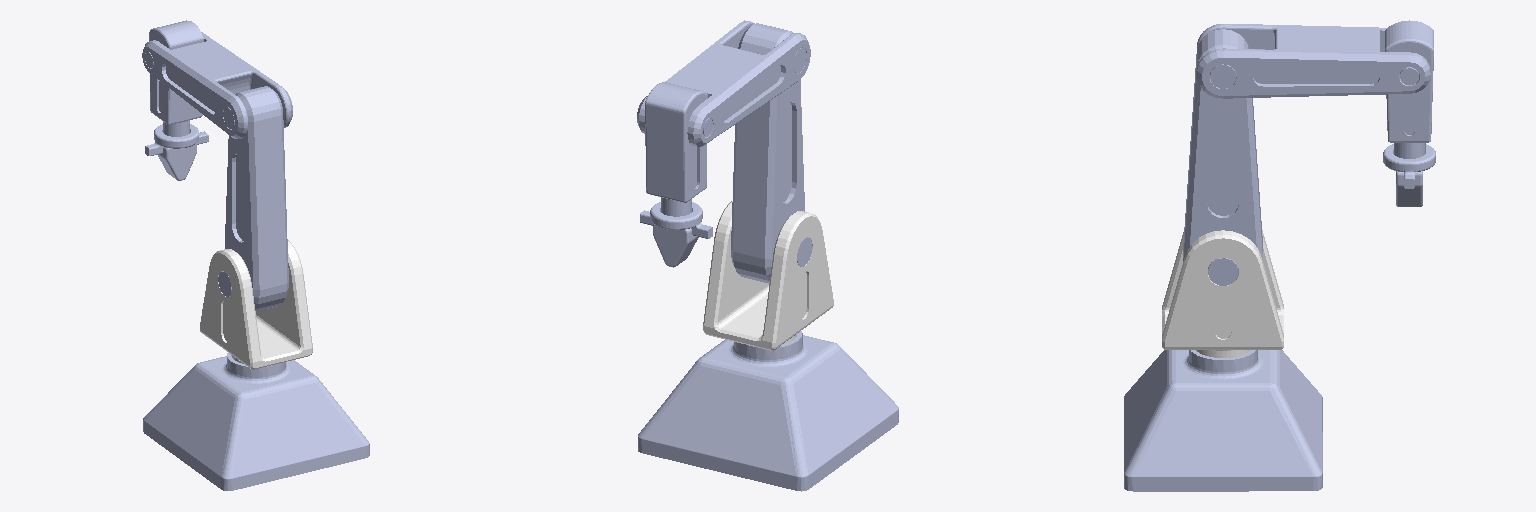
The robot description file, URDF, robot "robot_arm_urdf":
<?xml version="1.0" encoding="utf-8"?>
<!-- This URDF was automatically created by SolidWorks to URDF Exporter! Originally created by [author] ([email redacted]) 
     Commit Version: 1.5.1-0-g916b5db  Build Version: 1.5.7152.31018
     For more information, please see http://wiki.ros.org/sw_urdf_exporter -->
<robot
  name="robot_arm_urdf">

  <link name="world"/>

  <joint name="base_joint" type="fixed">
	<parent link="world"/>
	<child link="base_link"/>
	<origin rpy="0 0 3.142" xyz="0.0 0.0 0.0"/>
  </joint>

  <link
    name="base_link">
    <inertial>
      <origin
        xyz="4.1633E-17 0 0.073876"
        rpy="0 0 0" />
      <mass
        value="17.147" />
      <inertia
        ixx="0.192"
        ixy="-4.9423E-10"
        ixz="1.2752E-17"
        iyy="0.192"
        iyz="2.6417E-18"
        izz="0.29544" />
    </inertial>
    <visual>
      <origin
        xyz="0 0 0"
        rpy="0 0 0" />
      <geometry>
        <mesh
          filename="package://robot_arm_urdf/meshes/base_link.STL" />
      </geometry>
      <material
        name="">
        <color
          rgba="0.79216 0.81961 0.93333 1" />
      </material>
    </visual>
    <collision>
      <origin
        xyz="0 0 0"
        rpy="0 0 0" />
      <geometry>
        <mesh
          filename="package://robot_arm_urdf/meshes/base_link.STL" />
      </geometry>
    </collision>
  </link>
  <link
    name="link_1">
    <inertial>
      <origin
        xyz="-2.5757E-14 0.11047 -7.8988E-11"
        rpy="0 0 0" />
      <mass
        value="3.0905" />
      <inertia
        ixx="0.026302"
        ixy="-2.5267E-15"
        ixz="-1.4177E-12"
        iyy="0.019632"
        iyz="-7.4535E-12"
        izz="0.025388" />
    </inertial>
    <visual>
      <origin
        xyz="0 0 0"
        rpy="0 0 0" />
      <geometry>
        <mesh
          filename="package://robot_arm_urdf/meshes/link_1.STL" />
      </geometry>
      <material
        name="">
        <color
          rgba="1 1 1 1" />
      </material>
    </visual>
    <collision>
      <origin
        xyz="0 0 0"
        rpy="0 0 0" />
      <geometry>
        <mesh
          filename="package://robot_arm_urdf/meshes/link_1.STL" />
      </geometry>
    </collision>
  </link>
  <joint
    name="joint_1"
    type="revolute">
    <origin
      xyz="0 0 0.2"
      rpy="1.5708 0 1.5708" />
    <parent
      link="base_link" />
    <child
      link="link_1" />
    <axis
      xyz="0 1 0" />
    <limit
      lower="0"
      upper="3.142"
      effort="300"
      velocity="3" />
  </joint>
  <link
    name="link_2">
    <inertial>
      <origin
        xyz="-1.1102E-16 0.16752 -2.498E-16"
        rpy="0 0 0" />
      <mass
        value="5.5867" />
      <inertia
        ixx="0.12632"
        ixy="8.4877E-17"
        ixz="7.8685E-19"
        iyy="0.011401"
        iyz="1.4432E-16"
        izz="0.12911" />
    </inertial>
    <visual>
      <origin
        xyz="0 0 0"
        rpy="0 0 0" />
      <geometry>
        <mesh
          filename="package://robot_arm_urdf/meshes/link_2.STL" />
      </geometry>
      <material
        name="">
        <color
          rgba="0.79216 0.81961 0.93333 1" />
      </material>
    </visual>
    <collision>
      <origin
        xyz="0 0 0"
        rpy="0 0 0" />
      <geometry>
        <mesh
          filename="package://robot_arm_urdf/meshes/link_2.STL" />
      </geometry>
    </collision>
  </link>
  <joint
    name="joint_2"
    type="revolute">
    <origin
      xyz="0 0.205 0"
      rpy="0 0 0" />
    <parent
      link="link_1" />
    <child
      link="link_2" />
    <axis
      xyz="0 0 1" />
    <limit
      lower="-1.57"
      upper="1.57"
      effort="200"
      velocity="3" />
  </joint>
  <link
    name="link_3">
    <inertial>
      <origin
        xyz="-0.17893 0 -1.249E-16"
        rpy="0 0 0" />
      <mass
        value="2.8262" />
      <inertia
        ixx="0.0074041"
        ixy="-1.7927E-17"
        ixz="4.2672E-17"
        iyy="0.028552"
        iyz="-3.4736E-10"
        izz="0.025128" />
    </inertial>
    <visual>
      <origin
        xyz="0 0 0"
        rpy="0 0 0" />
      <geometry>
        <mesh
          filename="package://robot_arm_urdf/meshes/link_3.STL" />
      </geometry>
      <material
        name="">
        <color
          rgba="0.79216 0.81961 0.93333 1" />
      </material>
    </visual>
    <collision>
      <origin
        xyz="0 0 0"
        rpy="0 0 0" />
      <geometry>
        <mesh
          filename="package://robot_arm_urdf/meshes/link_3.STL" />
      </geometry>
    </collision>
  </link>
  <joint
    name="joint_3"
    type="revolute">
    <origin
      xyz="0 0.4 0"
      rpy="0 0 0" />
    <parent
      link="link_2" />
    <child
      link="link_3" />
    <axis
      xyz="0 0 1" />
    <limit
      lower="0"
      upper="3.142"
      effort="200"
      velocity="3" />
  </joint>
  <link
    name="link_4">
    <inertial>
      <origin
        xyz="-0.051672 -2.2204E-16 -1.1102E-16"
        rpy="0 0 0" />
      <mass
        value="1.8097" />
      <inertia
        ixx="0.0023112"
        ixy="-9.6437E-18"
        ixz="-9.9829E-19"
        iyy="0.0096102"
        iyz="1.3194E-19"
        izz="0.0093908" />
    </inertial>
    <visual>
      <origin
        xyz="0 0 0"
        rpy="0 0 0" />
      <geometry>
        <mesh
          filename="package://robot_arm_urdf/meshes/link_4.STL" />
      </geometry>
      <material
        name="">
        <color
          rgba="0.79216 0.81961 0.93333 1" />
      </material>
    </visual>
    <collision>
      <origin
        xyz="0 0 0"
        rpy="0 0 0" />
      <geometry>
        <mesh
          filename="package://robot_arm_urdf/meshes/link_4.STL" />
      </geometry>
    </collision>
  </link>
  <joint
    name="joint_4"
    type="revolute">
    <origin
      xyz="-0.35 0 0"
      rpy="0 0 1.5708" />
    <parent
      link="link_3" />
    <child
      link="link_4" />
    <axis
      xyz="0 0 1" />
    <limit
      lower="-3.142"
      upper="0"
      effort="200"
      velocity="3" />
  </joint>
  <link
    name="link_5">
    <inertial>
      <origin
        xyz="-0.018544 0 -2.7756E-17"
        rpy="0 0 0" />
      <mass
        value="0.19053" />
      <inertia
        ixx="0.00030197"
        ixy="1.6611E-20"
        ixz="3.6309E-21"
        iyy="0.00022817"
        iyz="-1.9664E-11"
        izz="0.00011843" />
    </inertial>
    <visual>
      <origin
        xyz="0 0 0"
        rpy="0 0 0" />
      <geometry>
        <mesh
          filename="package://robot_arm_urdf/meshes/link_5.STL" />
      </geometry>
      <material
        name="">
        <color
          rgba="0.79216 0.81961 0.93333 1" />
      </material>
    </visual>
    <collision>
      <origin
        xyz="0 0 0"
        rpy="0 0 0" />
      <geometry>
        <mesh
          filename="package://robot_arm_urdf/meshes/link_5.STL" />
      </geometry>
    </collision>
  </link>
  <joint
    name="joint_5"
    type="revolute">
    <origin
      xyz="-0.188 0 0"
      rpy="0 0 0" />
    <parent
      link="link_4" />
    <child
      link="link_5" />
    <axis
      xyz="1 0 0" />
    <limit
      lower="0"
      upper="3.142"
      effort="200"
      velocity="3" />
  </joint>
  <link
    name="link_6">
    <inertial>
      <origin
        xyz="-0.60237 0.4 -0.016013"
        rpy="0 0 0" />
      <mass
        value="0.11653" />
      <inertia
        ixx="3.9246E-05"
        ixy="-9.4878E-20"
        ixz="1.0258E-05"
        iyy="7.1189E-05"
        iyz="-3.4206E-20"
        izz="8.4875E-05" />
    </inertial>
    <visual>
      <origin
        xyz="0 0 0"
        rpy="0 0 0" />
      <geometry>
        <mesh
          filename="package://robot_arm_urdf/meshes/link_6.STL" />
      </geometry>
      <material
        name="">
        <color
          rgba="0.79216 0.81961 0.93333 1" />
      </material>
    </visual>
    <collision>
      <origin
        xyz="0 0 0"
        rpy="0 0 0" />
      <geometry>
        <mesh
          filename="package://robot_arm_urdf/meshes/link_6.STL" />
      </geometry>
    </collision>
  </link>
  <joint
    name="joint_6"
    type="prismatic">
    <origin
      xyz="0.54 -0.4 0"
      rpy="0 0 0" />
    <parent
      link="link_5" />
    <child
      link="link_6" />
    <axis
      xyz="0 0 -1" />
    <limit
      lower="0"
      upper="0.03"
      effort="100"
      velocity="3" />
  </joint>
  <link
    name="link_7">
    <inertial>
      <origin
        xyz="-0.60237 0.4 -0.016013"
        rpy="0 0 0" />
      <mass
        value="0.11653" />
      <inertia
        ixx="3.9246E-05"
        ixy="-4.7946E-20"
        ixz="1.0258E-05"
        iyy="7.1189E-05"
        iyz="-3.946E-20"
        izz="8.4875E-05" />
    </inertial>
    <visual>
      <origin
        xyz="0 0 0"
        rpy="0 0 0" />
      <geometry>
        <mesh
          filename="package://robot_arm_urdf/meshes/link_7.STL" />
      </geometry>
      <material
        name="">
        <color
          rgba="0.79216 0.81961 0.93333 1" />
      </material>
    </visual>
    <collision>
      <origin
        xyz="0 0 0"
        rpy="0 0 0" />
      <geometry>
        <mesh
          filename="package://robot_arm_urdf/meshes/link_7.STL" />
      </geometry>
    </collision>
  </link>
  <joint
    name="joint_7"
    type="prismatic">
    <origin
      xyz="0.54 0.4 0"
      rpy="3.1416 0 0" />
    <parent
      link="link_5" />
    <child
      link="link_7" />
    <axis
      xyz="0 0 1" />
    <limit
      lower="-0.03"
      upper="0"
      effort="100"
      velocity="3" />
  </joint>

  <transmission name="link_1_trans">
	<type>transmission_interface/SimpleTransmission</type>
	<joint name="joint_1">
		<hardwareInterface>hardware_interface/PositionJointInterface</hardwareInterface>
	</joint>
	<actuator name="link_1_motor">
		<hardwareInterface>hardware_interface/PositionJointInterface</hardwareInterface>
		<mechanicalReduction>1</mechanicalReduction>
	</actuator>
  </transmission>

  <transmission name="link_2_trans">
	<type>transmission_interface/SimpleTransmission</type>
	<joint name="joint_2">
		<hardwareInterface>hardware_interface/PositionJointInterface</hardwareInterface>
	</joint>
	<actuator name="link_2_motor">
		<hardwareInterface>hardware_interface/PositionJointInterface</hardwareInterface>
		<mechanicalReduction>1</mechanicalReduction>
	</actuator>
  </transmission>

  <transmission name="link_3_trans">
	<type>transmission_interface/SimpleTransmission</type>
	<joint name="joint_3">
		<hardwareInterface>hardware_interface/PositionJointInterface</hardwareInterface>
	</joint>
	<actuator name="link_3_motor">
		<hardwareInterface>hardware_interface/PositionJointInterface</hardwareInterface>
		<mechanicalReduction>1</mechanicalReduction>
	</actuator>
  </transmission>

  <transmission name="link_4_trans">
	<type>transmission_interface/SimpleTransmission</type>
	<joint name="joint_4">
		<hardwareInterface>hardware_interface/PositionJointInterface</hardwareInterface>
	</joint>
	<actuator name="link_4_motor">
		<hardwareInterface>hardware_interface/PositionJointInterface</hardwareInterface>
		<mechanicalReduction>1</mechanicalReduction>
	</actuator>
  </transmission>

  <transmission name="link_5_trans">
	<type>transmission_interface/SimpleTransmission</type>
	<joint name="joint_5">
		<hardwareInterface>hardware_interface/PositionJointInterface</hardwareInterface>
	</joint>
	<actuator name="link_5_motor">
		<hardwareInterface>hardware_interface/PositionJointInterface</hardwareInterface>
		<mechanicalReduction>1</mechanicalReduction>
	</actuator>
  </transmission>

  <transmission name="link_6_trans">
	<type>transmission_interface/SimpleTransmission</type>
	<joint name="joint_6">
		<hardwareInterface>hardware_interface/PositionJointInterface</hardwareInterface>
	</joint>
	<actuator name="link_6_motor">
		<hardwareInterface>hardware_interface/PositionJointInterface</hardwareInterface>
		<mechanicalReduction>1</mechanicalReduction>
	</actuator>
  </transmission>

  <transmission name="link_7_trans">
	<type>transmission_interface/SimpleTransmission</type>
	<joint name="joint_7">
		<hardwareInterface>hardware_interface/PositionJointInterface</hardwareInterface>
	</joint>
	<actuator name="link_7_motor">
		<hardwareInterface>hardware_interface/PositionJointInterface</hardwareInterface>
		<mechanicalReduction>1</mechanicalReduction>
	</actuator>
  </transmission>

  <gazebo>
	<plugin name="control" filename="libgazebo_ros_control.so">
		<robotNamespace>/</robotNamespace>
	</plugin>
  </gazebo>

  <gazebo reference="link_1">
	<selfCollide>true</selfCollide>
  </gazebo>

  <gazebo reference="link_2">
	<selfCollide>true</selfCollide>
  </gazebo>

  <gazebo reference="link_3">
	<selfCollide>true</selfCollide>
  </gazebo>

  <gazebo reference="link_4">
	<selfCollide>true</selfCollide>
  </gazebo>

  <gazebo reference="link_5">
	<selfCollide>true</selfCollide>
  </gazebo>

  <gazebo reference="link_6">
	<selfCollide>true</selfCollide>
  </gazebo>

  <gazebo reference="link_7">
	<selfCollide>true</selfCollide>
  </gazebo>


</robot>

--- What the picture shows (computed from the rendered views, not written in the file) ---
3 views of the same robot in one strip: view 1: azimuth 30°, elevation 25°; view 2: azimuth 150°, elevation 25°; view 3: azimuth 270°, elevation 25° (orthographic).
Robot: robot_arm_urdf — 9 links, 8 joints (5 revolute, 2 prismatic, 1 fixed); root link world; default pose: every joint at zero.
Links seen in each view (by area): view 1: base_link, link_2, link_1, link_3, link_4, link_5, link_7; view 2: base_link, link_2, link_1, link_3, link_4, link_5, link_7; view 3: base_link, link_3, link_2, link_1, link_4, link_5, link_6.
Boxes of the visible links, box(x1,y1,x2,y2) form: base_link: box(143, 353, 369, 490); link_2: box(218, 86, 288, 310); link_1: box(200, 240, 312, 369); link_3: box(142, 32, 292, 138); link_4: box(145, 20, 203, 136); link_5: box(145, 124, 208, 155); link_7: box(158, 147, 181, 180); base_link: box(638, 331, 898, 491); link_2: box(731, 23, 811, 283); link_1: box(703, 201, 833, 350); link_3: box(637, 20, 810, 146); link_4: box(645, 82, 712, 216); link_5: box(640, 202, 712, 238); link_7: box(670, 228, 698, 267); base_link: box(1124, 350, 1322, 491); link_3: box(1197, 24, 1430, 98); link_2: box(1183, 29, 1262, 285); link_1: box(1162, 230, 1283, 357); link_4: box(1385, 20, 1433, 158); link_5: box(1383, 144, 1435, 188); link_6: box(1396, 171, 1422, 206).
Size in the robot's own frame: 0.3733 by 0.5867 by 0.87 metres.
8 mesh visuals loaded from 8 distinct referenced files (8 binary STL).